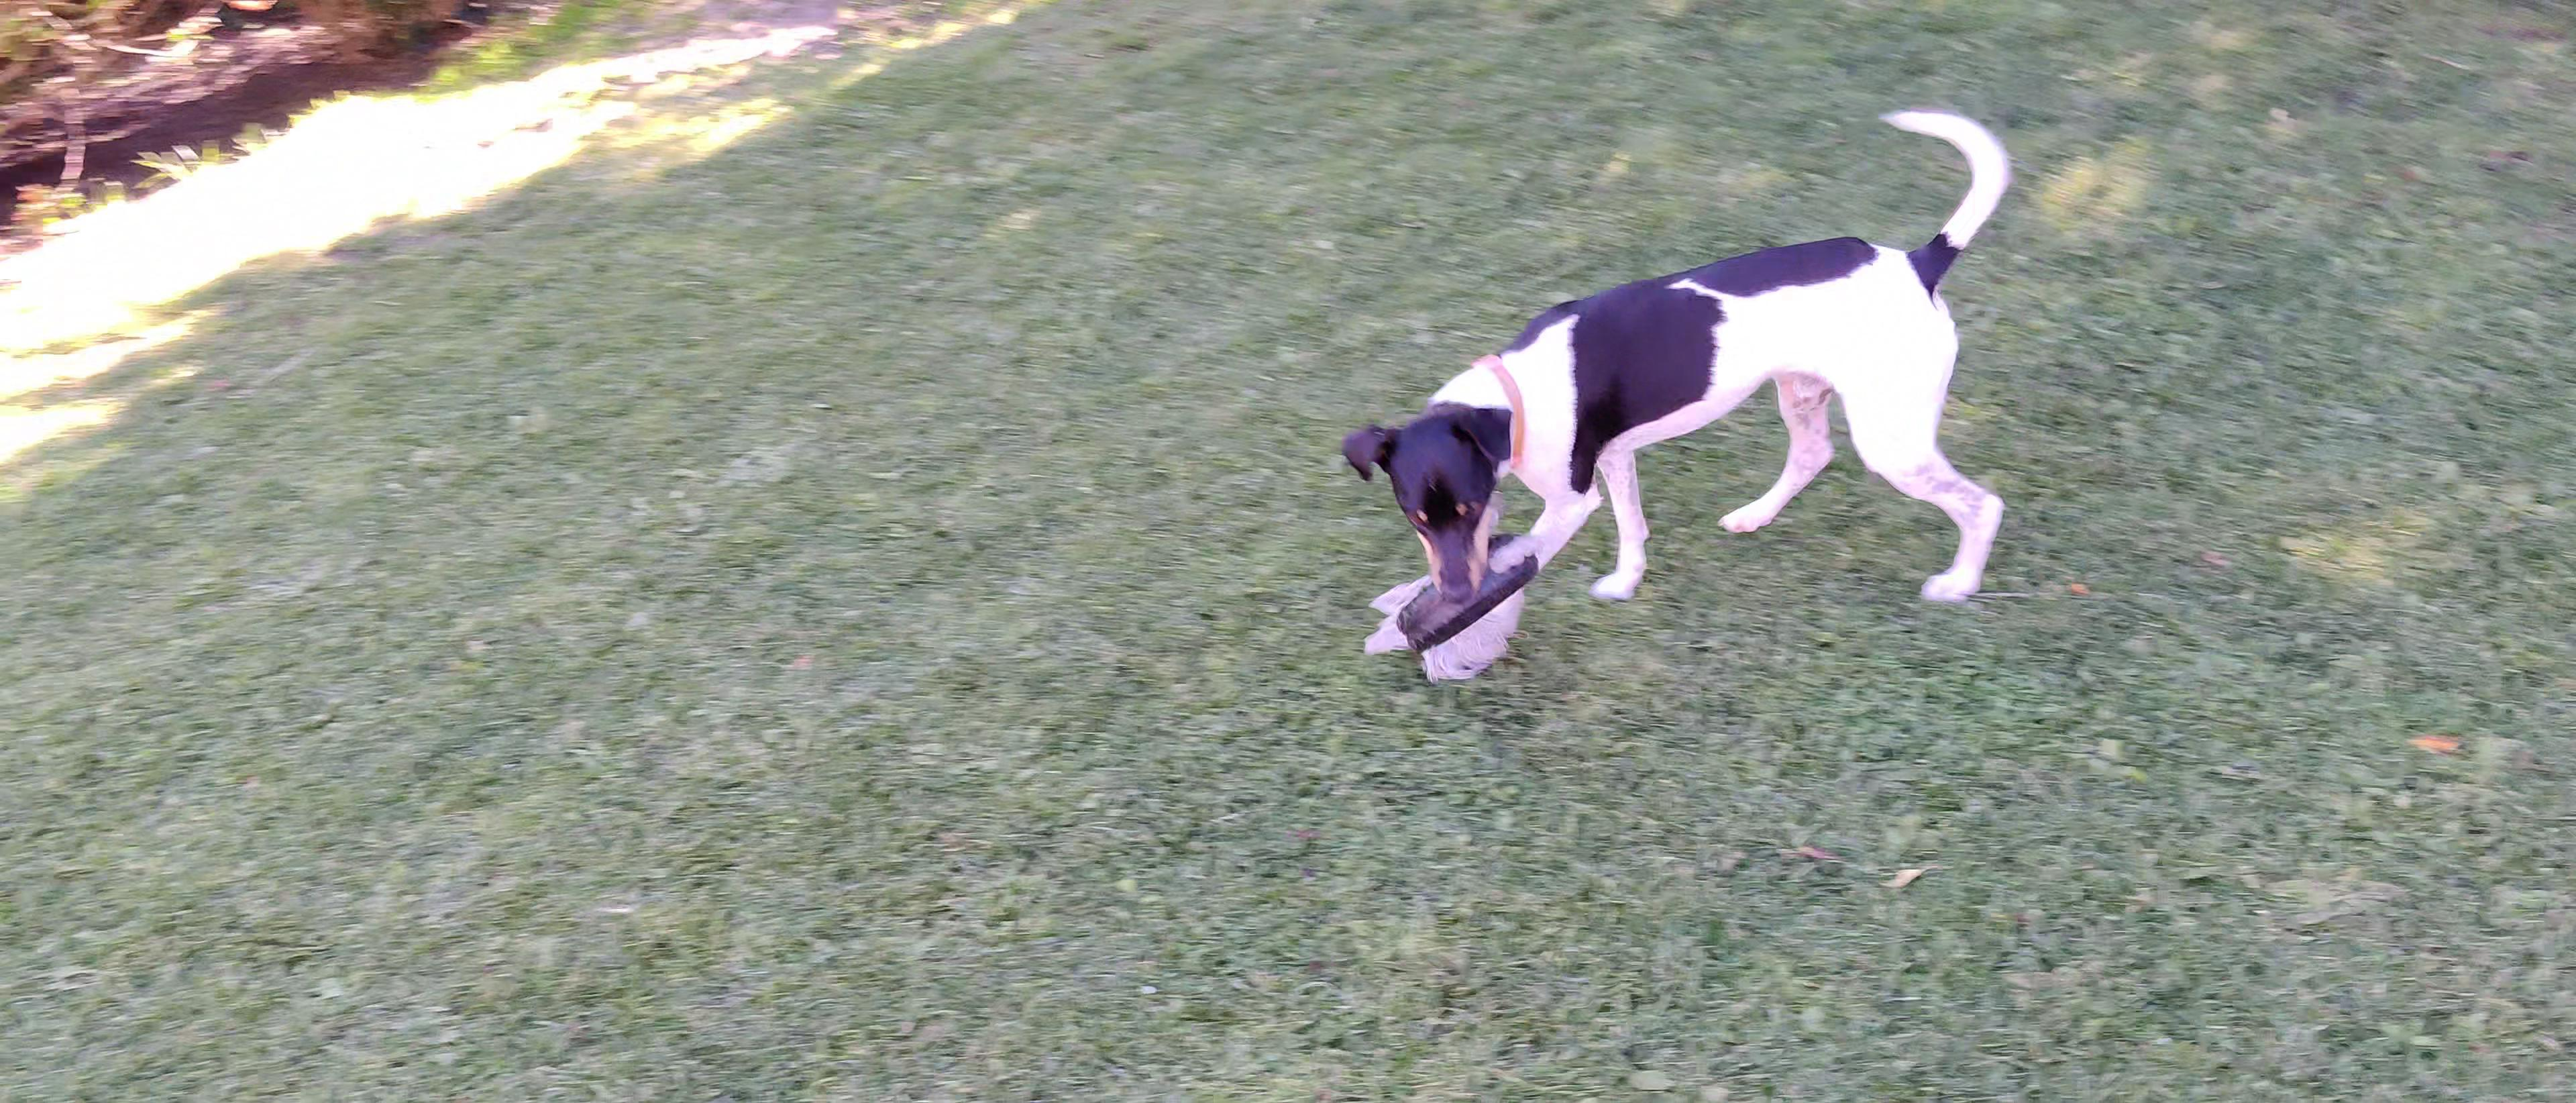Dog: (1337, 102, 2016, 610)
